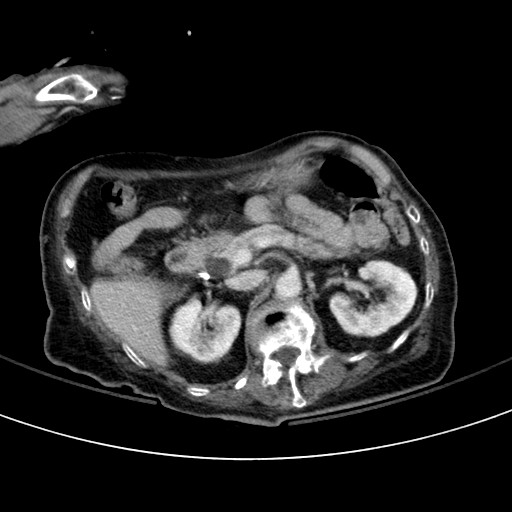clipe: (196, 270, 211, 280)
